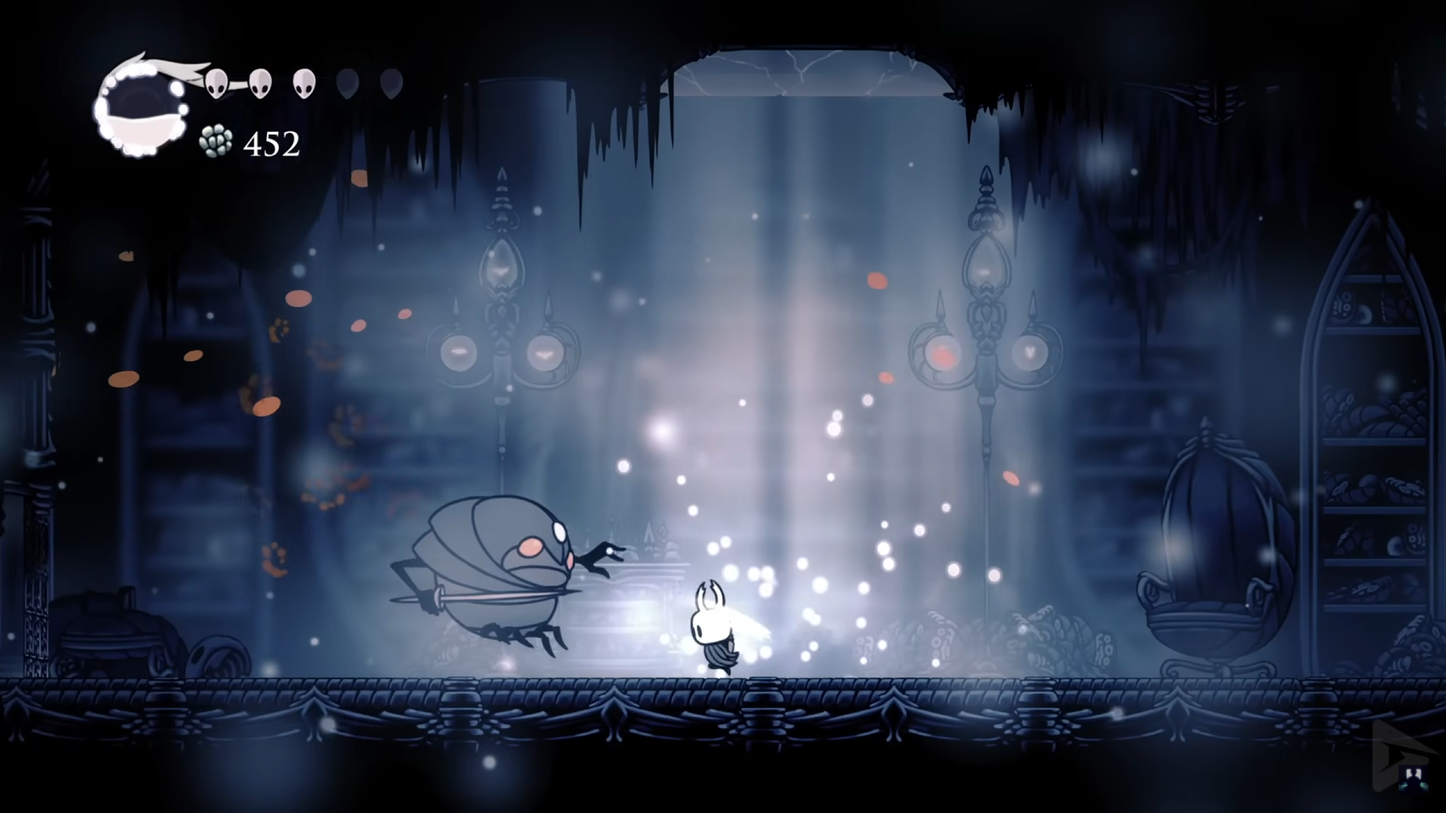HK: (685, 579, 747, 678)
